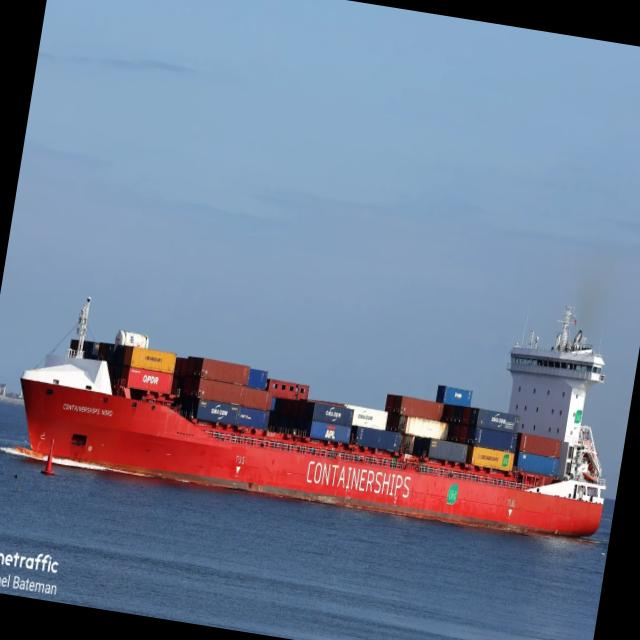Cargo: (21, 299, 605, 536)
